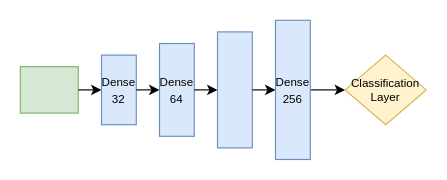
The diagram is 447 pixels wide and 180 high, and some of its shapes have lost their labels. Each missing label, with the centre of its shape:
"Dense 128" goes at (234,89).
"Input Features" goes at (48,89).
